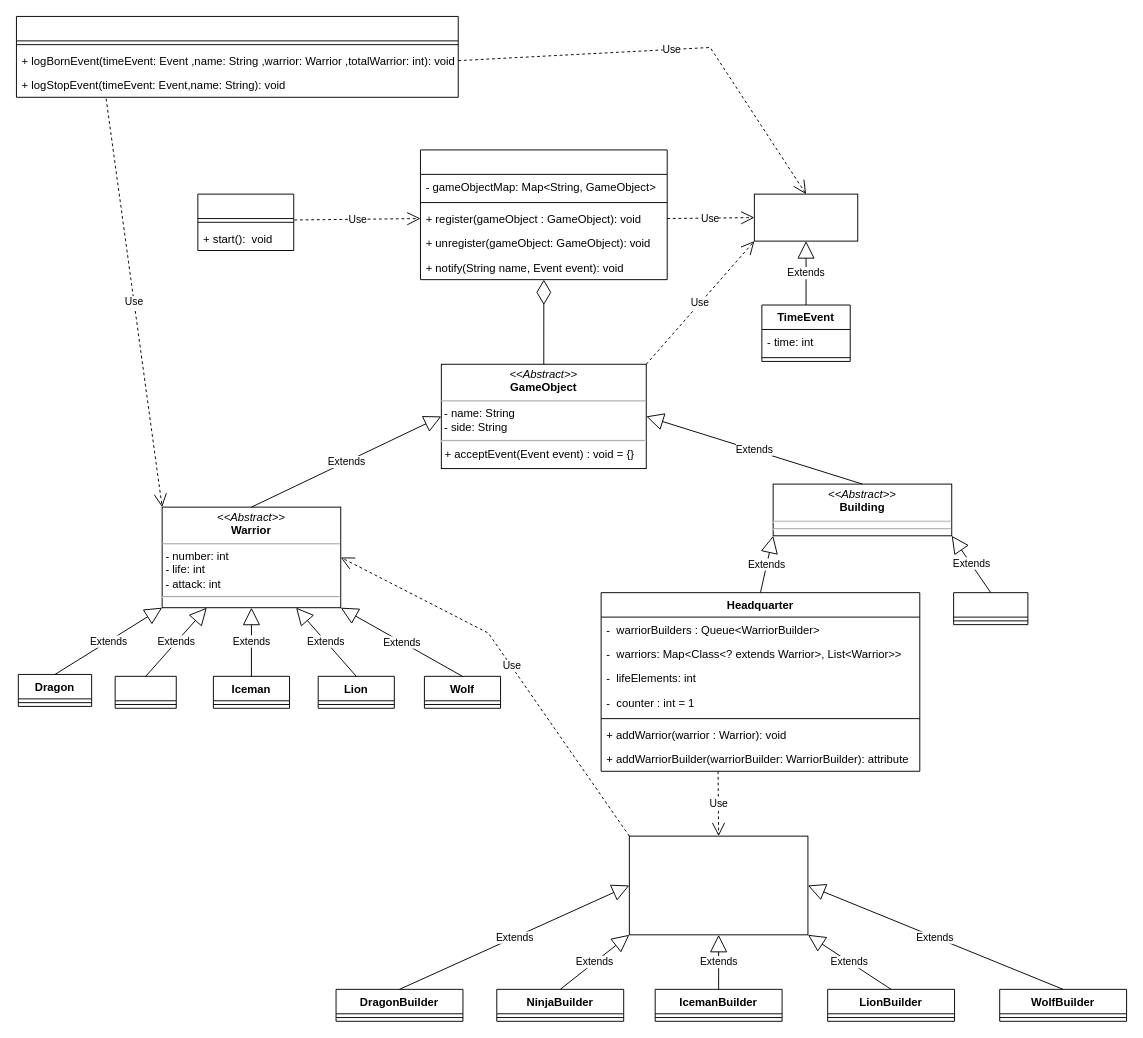
Some shapes in this 1143 by 1038 pixel diagram are drawn without their labels. Each missing label, with the box of its shape:
<<Abstract>> WarriorBuilder - life: int - attack: int + buildWarrior() : Warrior: (628, 835, 808, 935)
Cities: (953, 592, 1028, 625)
Clock: (197, 193, 294, 251)
EventSystem: (420, 149, 667, 280)
Logger: (16, 16, 458, 97)
Ninja: (114, 675, 176, 708)
«interface» Event: (753, 193, 858, 241)
